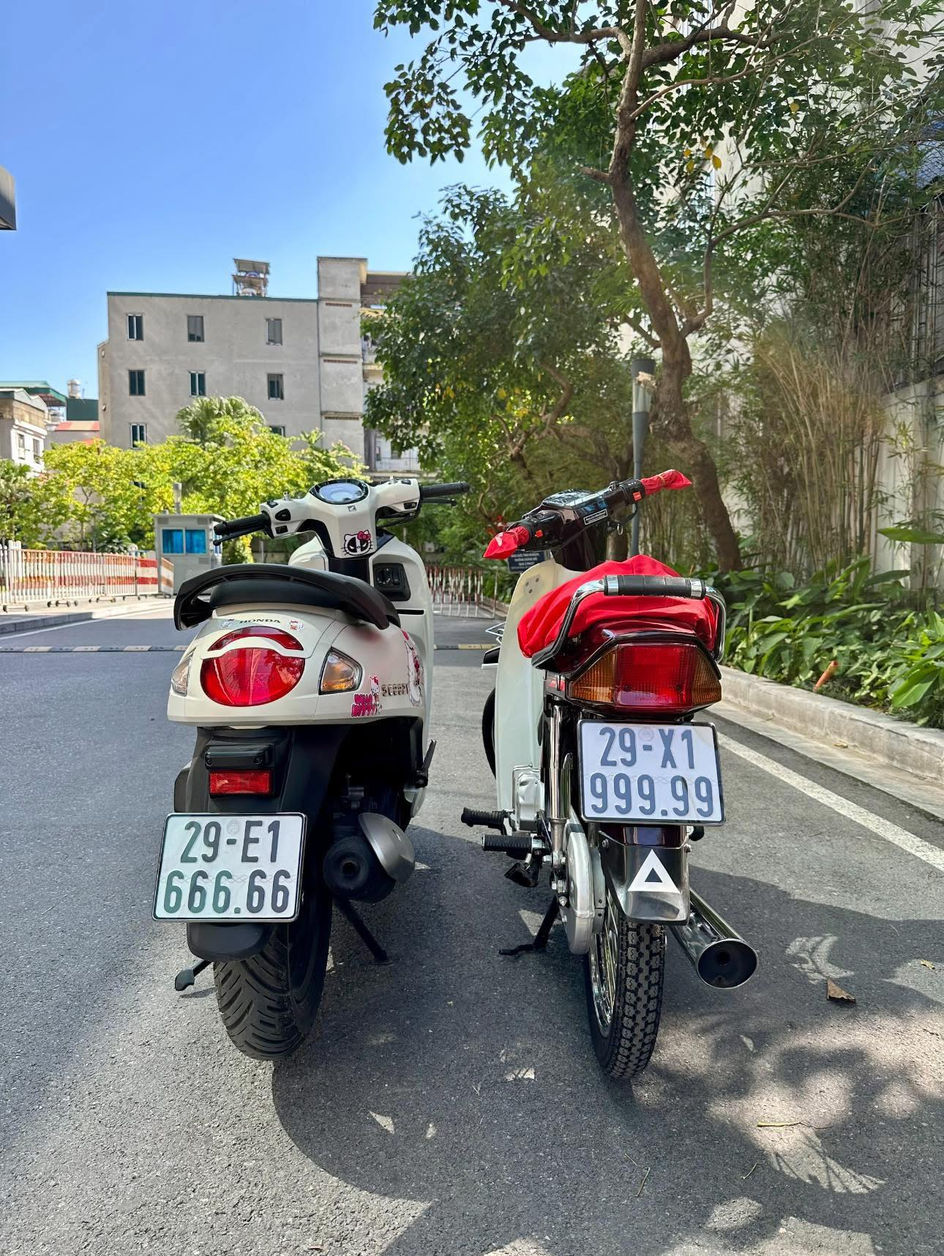bien_so: (150, 804, 313, 935), (569, 715, 731, 829)
